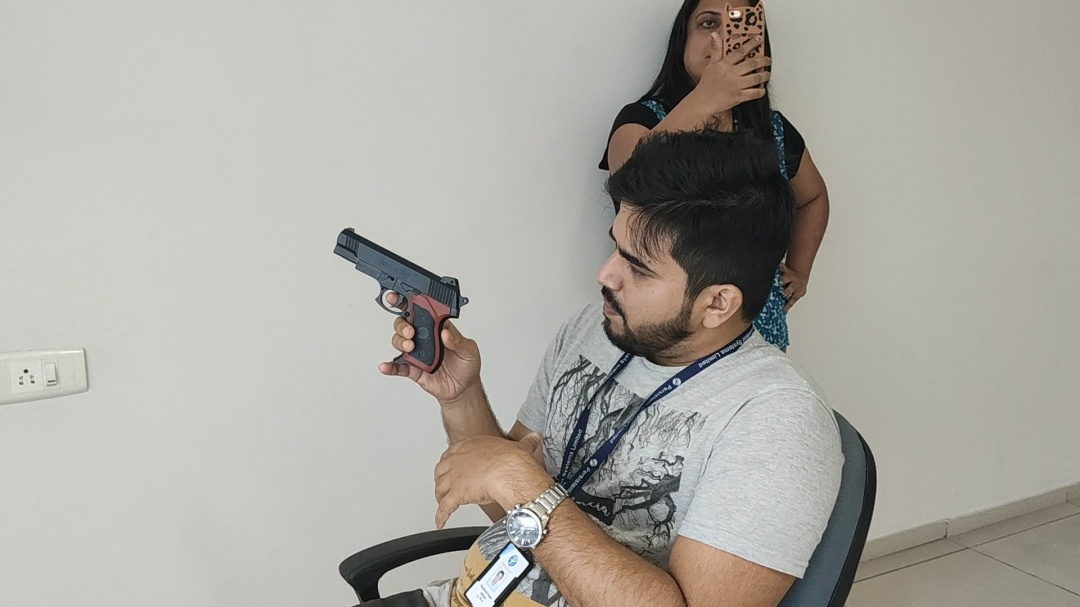gun: (332, 227, 467, 372)
